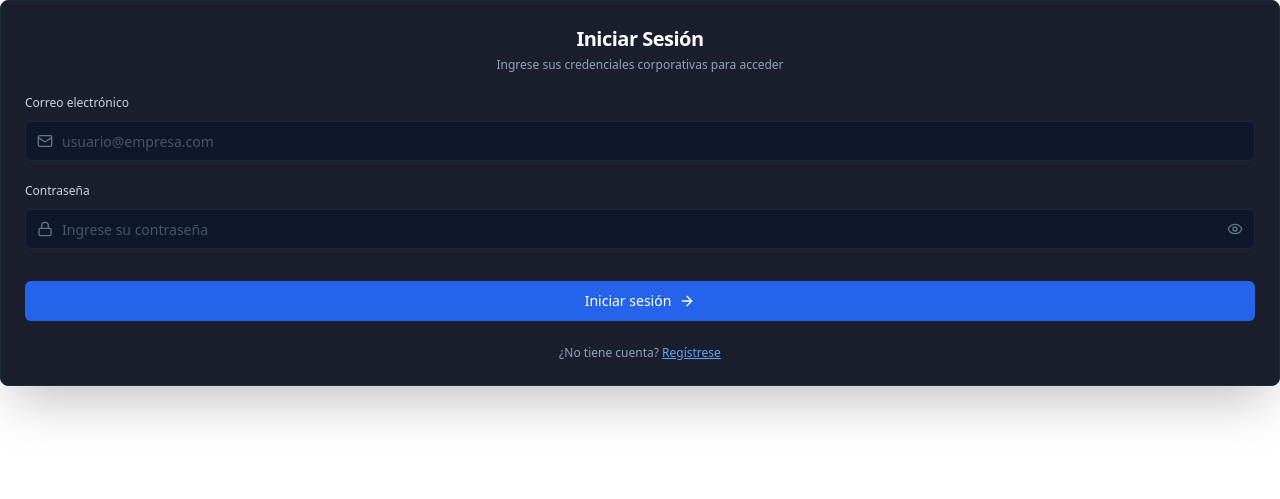
Test: LoginPage › shows a pending-approval message on 403
Type "nuevo@erp.com" into the field labelled "Correo electrónico". click: (640, 141)
box: [25, 121, 1255, 161]
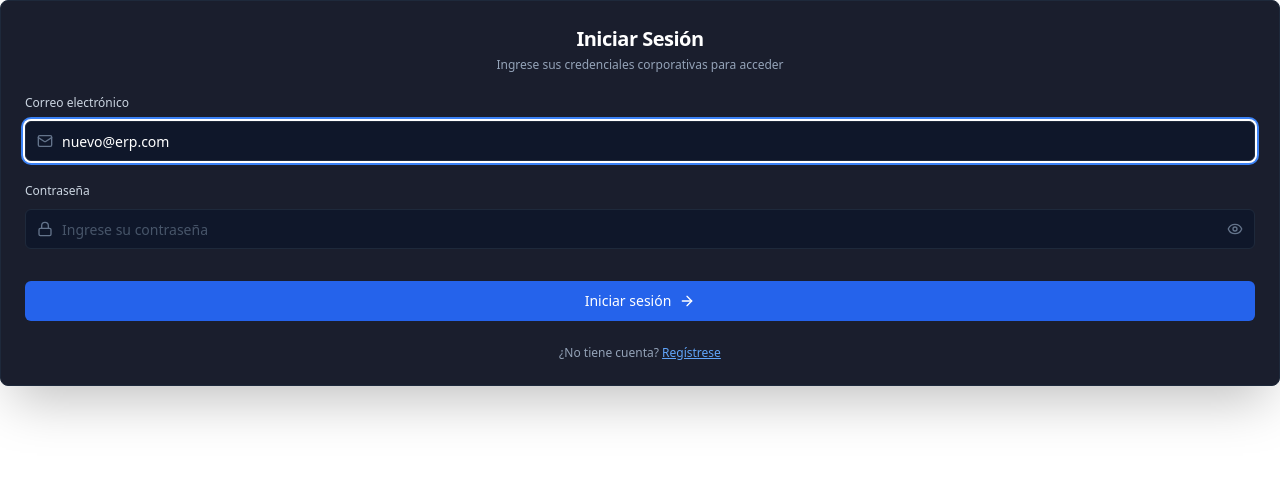
Type "Secret123!" into the password field labelled "Contraseña". click: (640, 229)
box: [25, 209, 1255, 249]
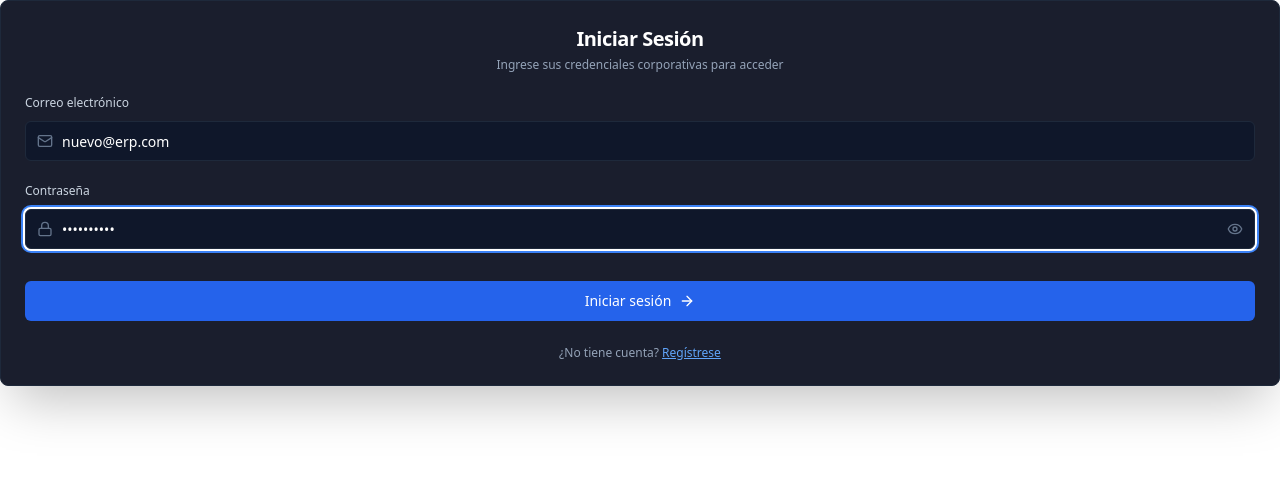
Click the button "Iniciar sesión". click: (640, 301)
box: [25, 281, 1255, 321]
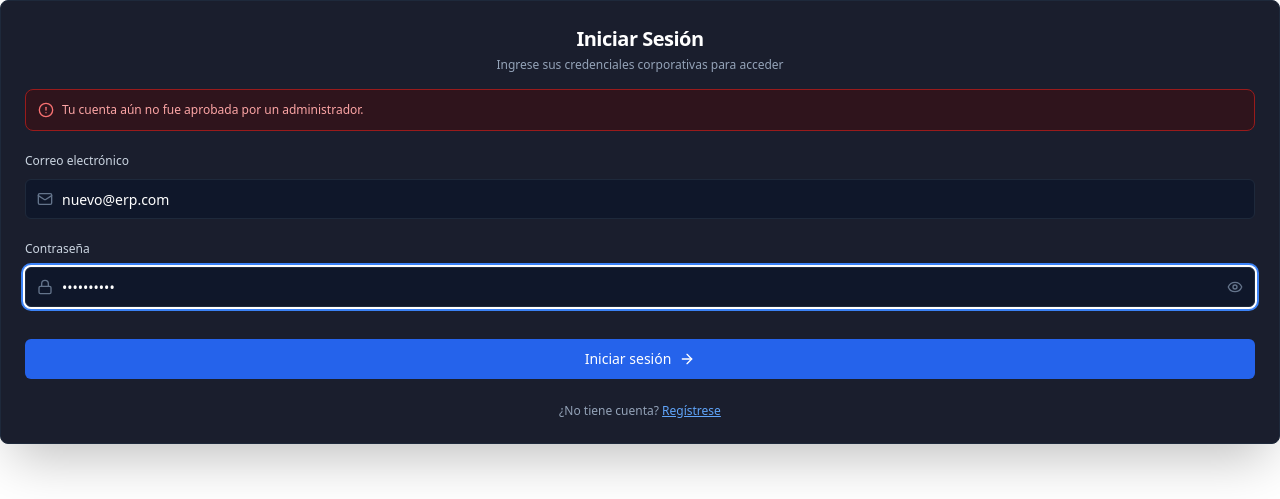
Expected: the text "Tu cuenta aún no fue aprobada por un administrador." is shown, [62, 102, 364, 118]
